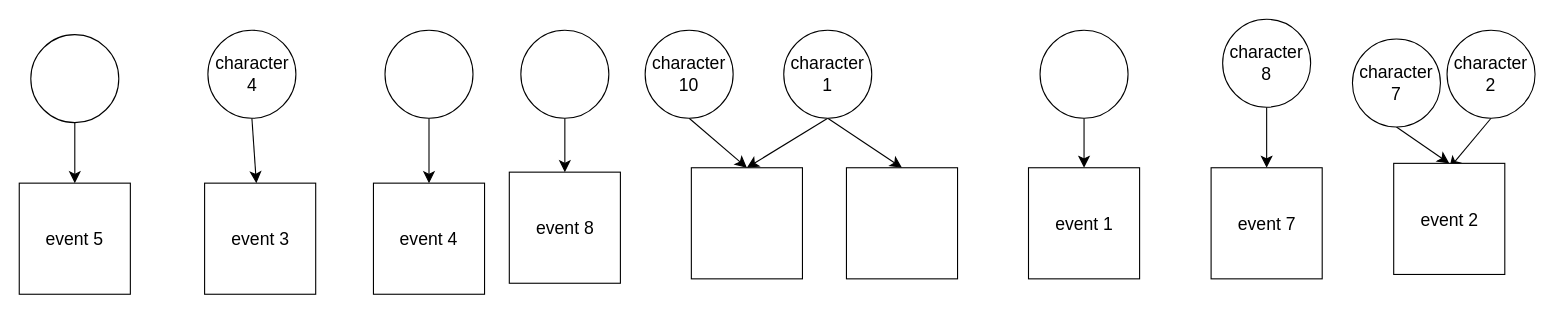
The diagram is 1554 pixels wide and 314 high, and some of its shapes have lost their labels. Here are the shapes that lost their labels. From the top down, the centre of each, then its label:
At point 74,78: "character 3".
At point 428,73: "character 6".
At point 564,73: "character 9".
At point 1083,73: "character 5".
At point 746,223: "event 9".
At point 901,223: "event 6".
